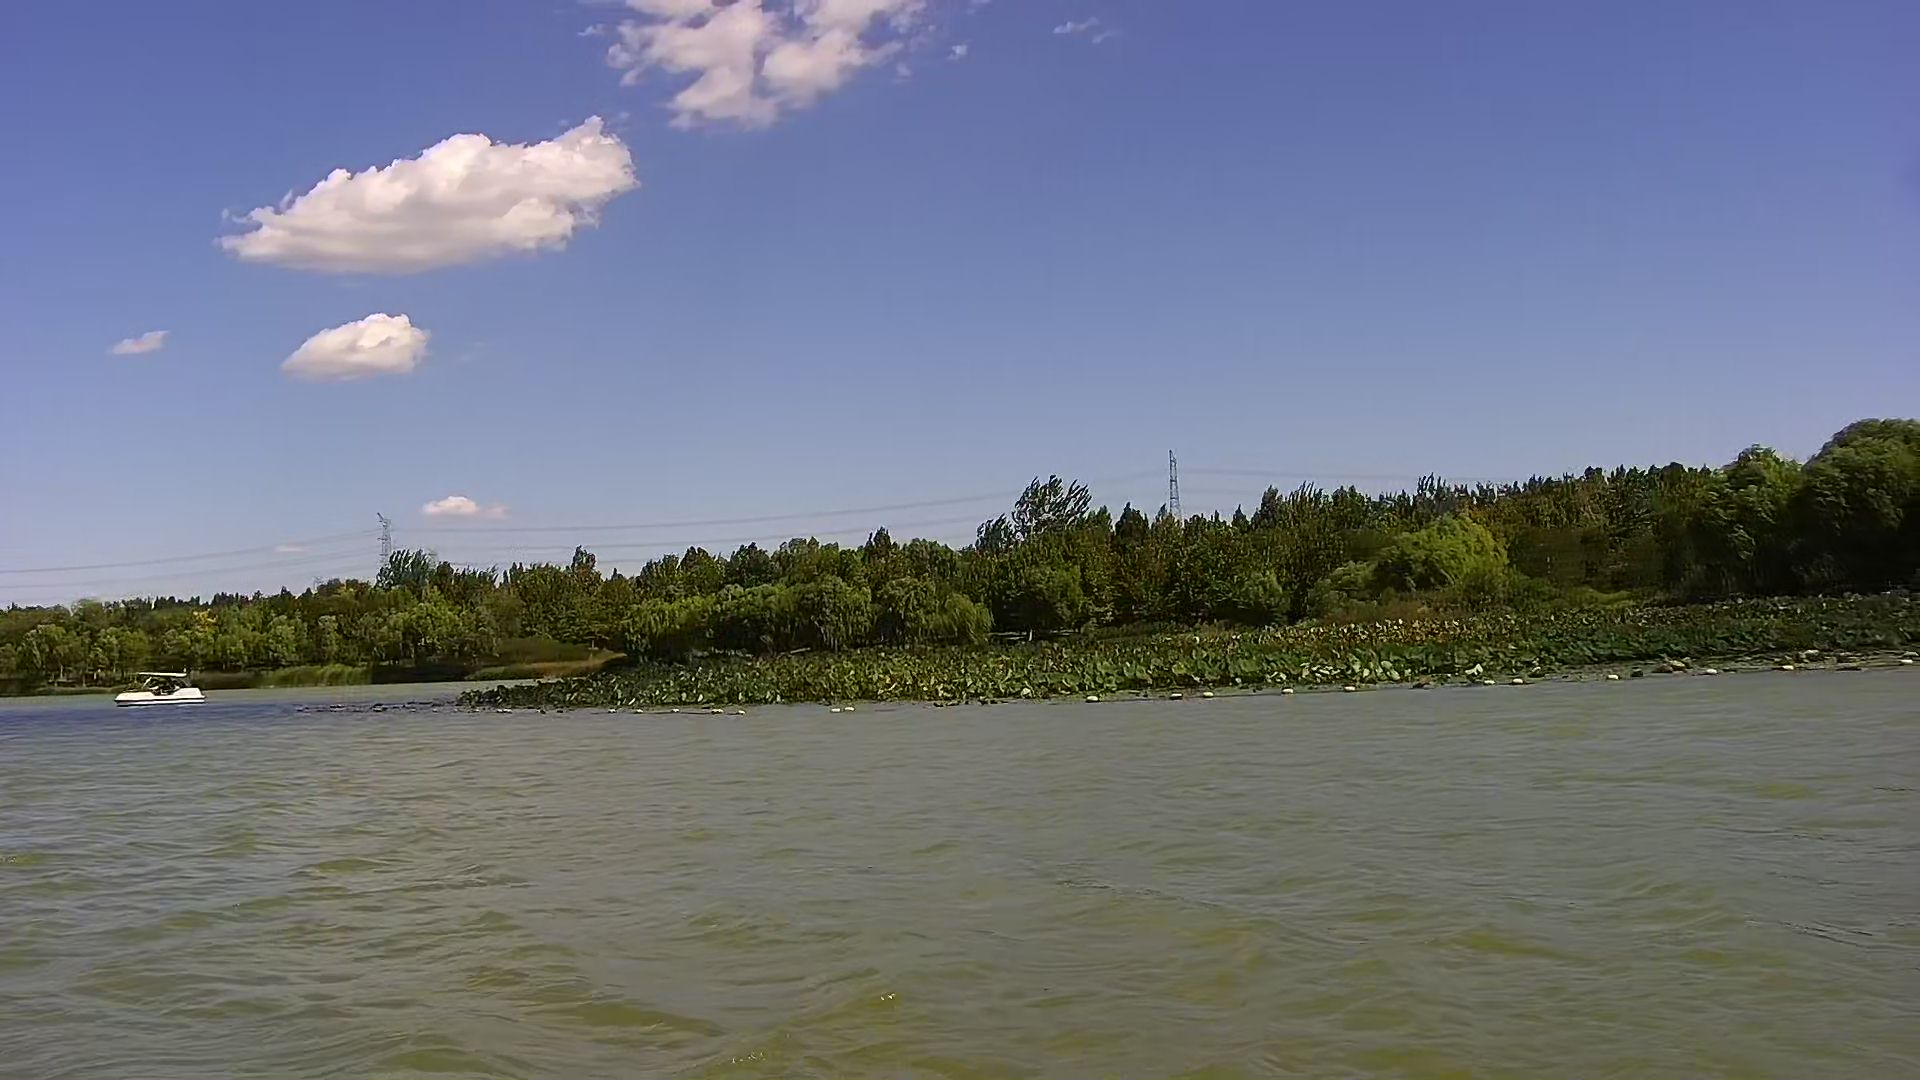boat: (107, 667, 215, 711)
